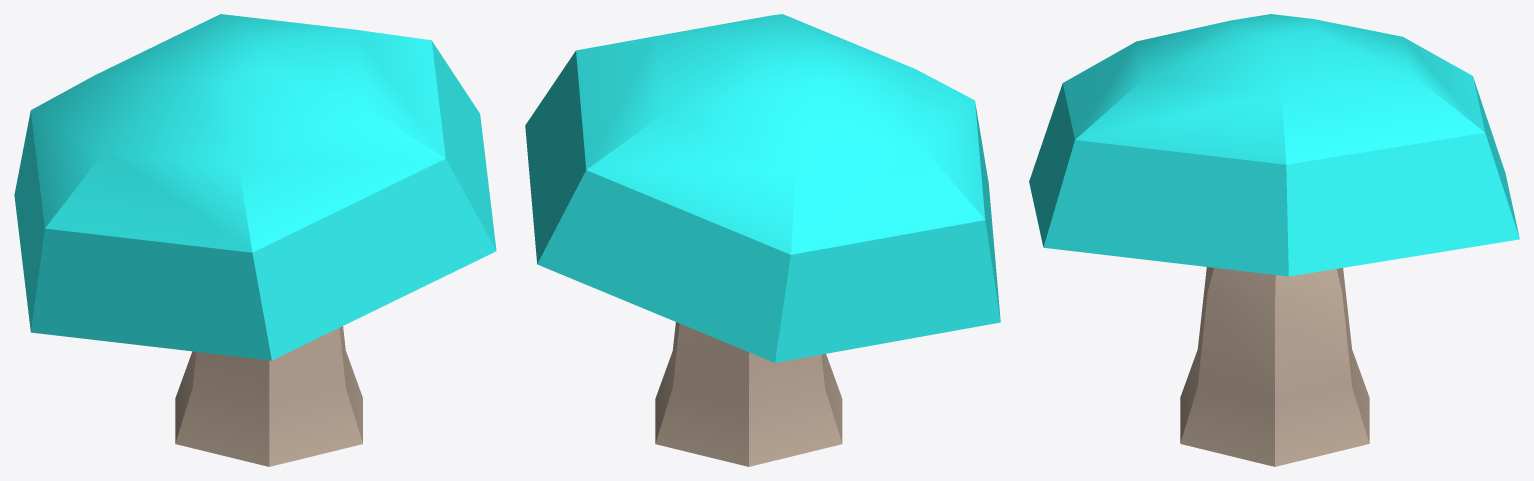
File: Mushroom_Blue_04.fbx
3 views of the same model, side by side, from view 1: azimuth 30°, elevation 25°; view 2: azimuth 150°, elevation 25°; view 3: azimuth 270°, elevation 25° (orthographic).
Parts seen in each view (by area): view 1: Mushroom_Blue_04; view 2: Mushroom_Blue_04; view 3: Mushroom_Blue_04.
Boxes of the visible parts, x1,y1,x2,y2 form: Mushroom_Blue_04: (14, 14, 496, 466); Mushroom_Blue_04: (525, 14, 1000, 466); Mushroom_Blue_04: (1029, 14, 1519, 466).
Size of the model in its own units: 10.85 by 8.45 by 9.86.
